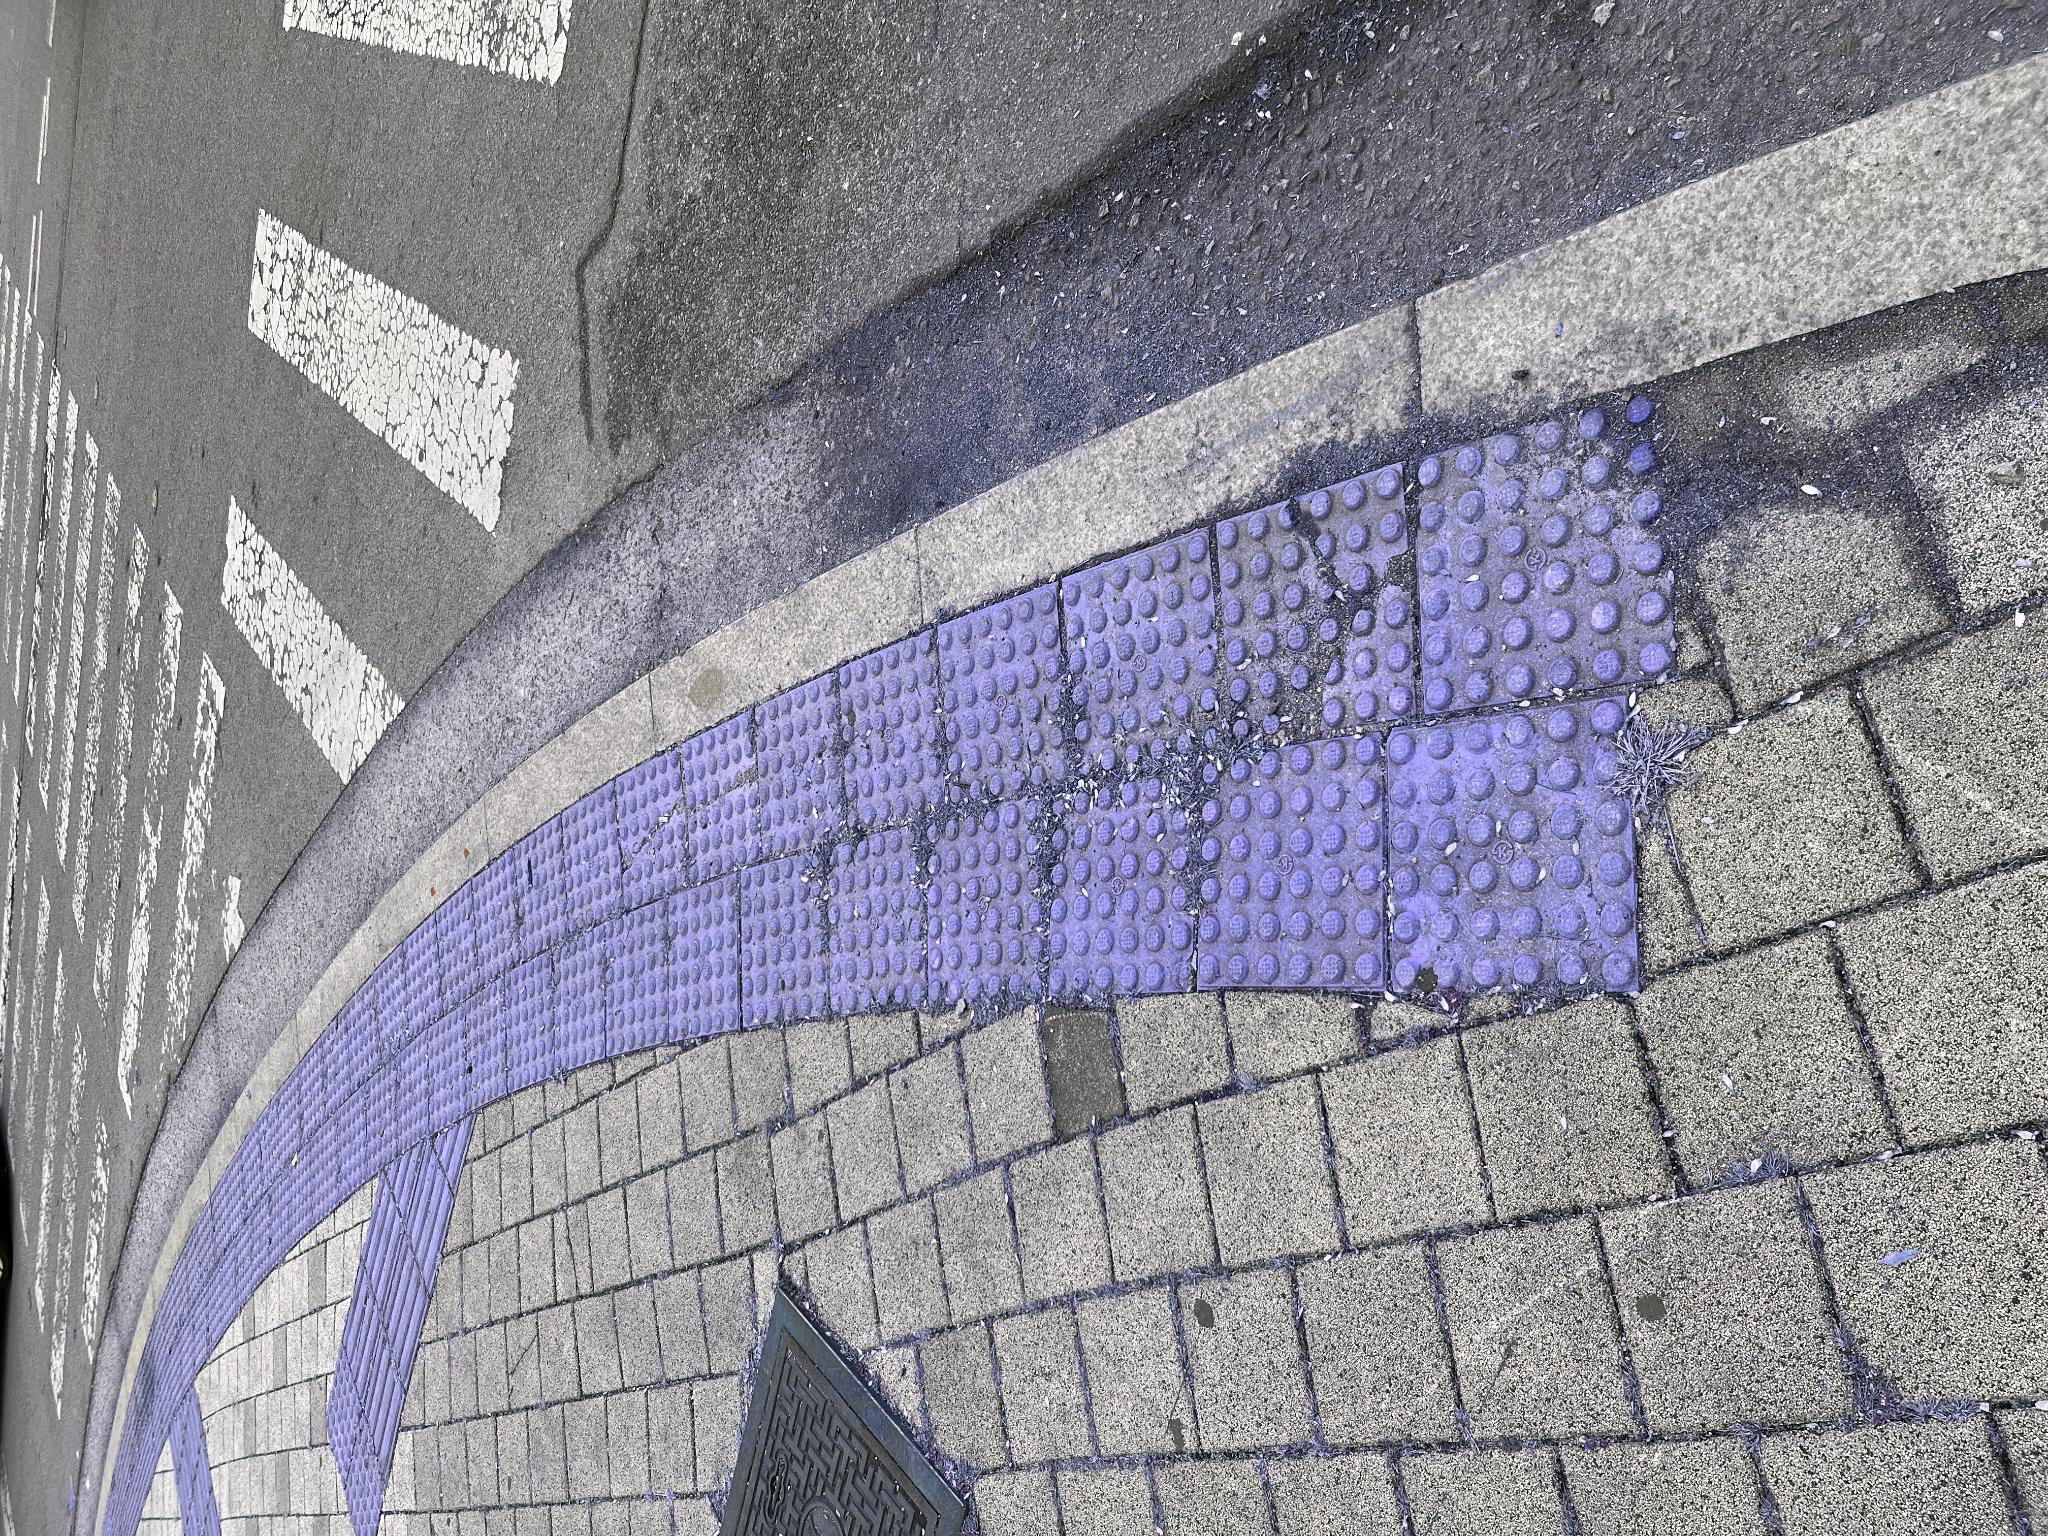Stop block broken: (787, 1217, 1071, 1417), (626, 615, 789, 687)
Stop block normal: (548, 1199, 803, 1381), (698, 837, 906, 949), (508, 741, 687, 828)
